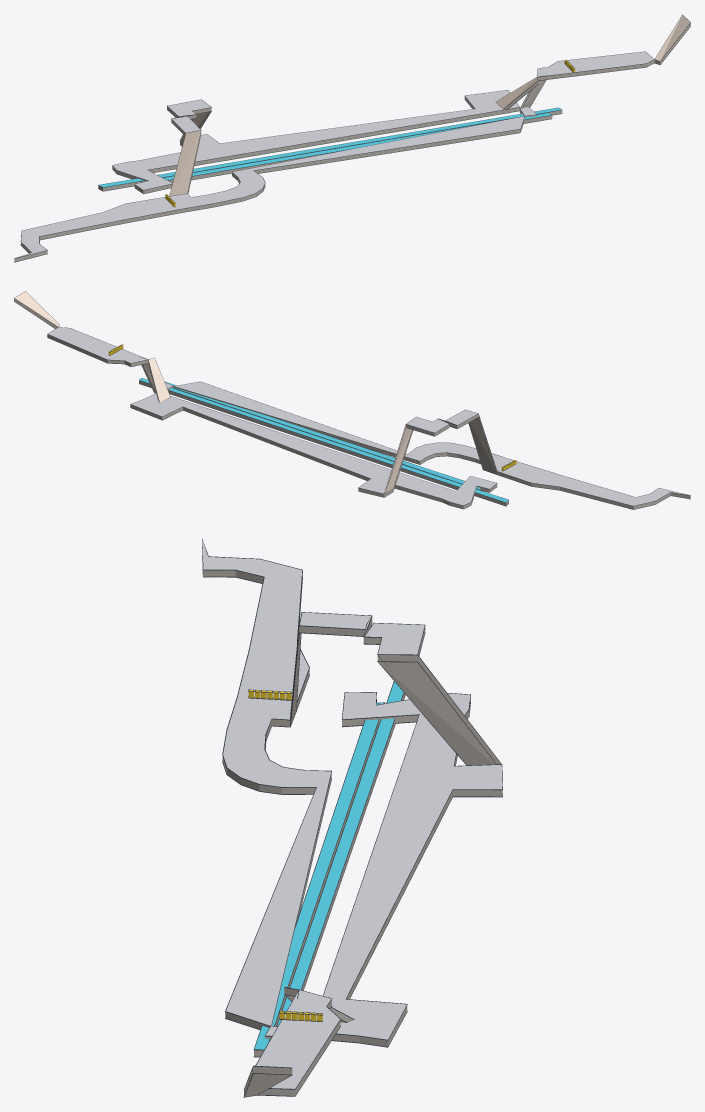
File: estacion_del_arte.glb
The picture shows the model from 3 angles, top to bottom: view 1: azimuth 30°, elevation 25°; view 2: azimuth 150°, elevation 25°; view 3: azimuth 270°, elevation 25°; orthographic projection. The views are drawn at different scales.
Parts seen in each view (by area): view 1: Anden frente con retorno curvo oeste, Anden fondo con ensanche oeste, Vestibulo este con acceso, Franja L1 fondo, Franja L1 frente, Anden frente con retorno curvo oeste borde, Bajada larga oeste al vestibulo, Anden fondo con ensanche oeste borde, Franja L1 fondo borde, Acceso inclinado este, Anden frente con retorno curvo oeste borde.001, Rellano posterior oeste (+3 smaller); view 2: Anden frente con retorno curvo oeste, Anden fondo con ensanche oeste, Franja L1 fondo, Vestibulo este con acceso, Franja L1 frente, Anden frente con retorno curvo oeste borde, Anden fondo con ensanche oeste borde, Bajada larga oeste al vestibulo, Franja L1 fondo borde, Bajada posterior oeste al anden, Acceso inclinado este, Rellano posterior oeste (+5 smaller); view 3: Anden frente con retorno curvo oeste, Anden fondo con ensanche oeste, Franja L1 frente, Franja L1 fondo, Vestibulo este con acceso, Bajada posterior oeste al anden, Rellano posterior oeste, Anden frente con retorno curvo oeste borde, Rellano alto oeste, Anden fondo con ensanche oeste borde, Acceso inclinado este.
Part boxes in pixels (x1,y1,x2,y2): Anden frente con retorno curvo oeste: (14, 116, 524, 261); Anden fondo con ensanche oeste: (112, 90, 519, 193); Vestibulo este con acceso: (537, 51, 654, 80); Franja L1 fondo: (98, 108, 562, 190); Franja L1 frente: (141, 113, 552, 182); Anden frente con retorno curvo oeste borde: (14, 116, 524, 258); Bajada larga oeste al vestibulo: (169, 130, 201, 195); Anden fondo con ensanche oeste borde: (112, 90, 519, 190); Franja L1 fondo borde: (98, 107, 562, 187); Acceso inclinado este: (654, 15, 690, 64); Anden frente con retorno curvo oeste borde.001: (14, 123, 523, 262); Rellano posterior oeste: (167, 99, 211, 117); Anden frente con retorno curvo oeste: (174, 382, 690, 509); Anden fondo con ensanche oeste: (130, 393, 497, 508); Franja L1 fondo: (139, 378, 508, 505); Vestibulo este con acceso: (47, 327, 148, 366); Franja L1 frente: (164, 382, 480, 490); Anden frente con retorno curvo oeste borde: (173, 381, 690, 506); Anden fondo con ensanche oeste borde: (130, 393, 497, 505); Bajada larga oeste al vestibulo: (468, 415, 497, 474); Franja L1 fondo borde: (139, 378, 508, 502); Bajada posterior oeste al anden: (384, 425, 412, 496); Acceso inclinado este: (14, 291, 59, 328); Rellano posterior oeste: (406, 417, 449, 436); Anden frente con retorno curvo oeste: (202, 540, 331, 1029); Anden fondo con ensanche oeste: (323, 692, 502, 1046); Franja L1 frente: (254, 703, 384, 1056); Franja L1 fondo: (277, 682, 405, 1026); Vestibulo este con acceso: (256, 990, 340, 1095); Bajada posterior oeste al anden: (377, 655, 500, 765); Rellano posterior oeste: (364, 623, 425, 661); Anden frente con retorno curvo oeste borde: (202, 538, 331, 1026); Rellano alto oeste: (299, 612, 372, 635); Anden fondo con ensanche oeste borde: (323, 692, 502, 1040); Acceso inclinado este: (244, 1066, 292, 1096).
Bounding box in the file's own units: 125 × 10.95 × 24.98.
